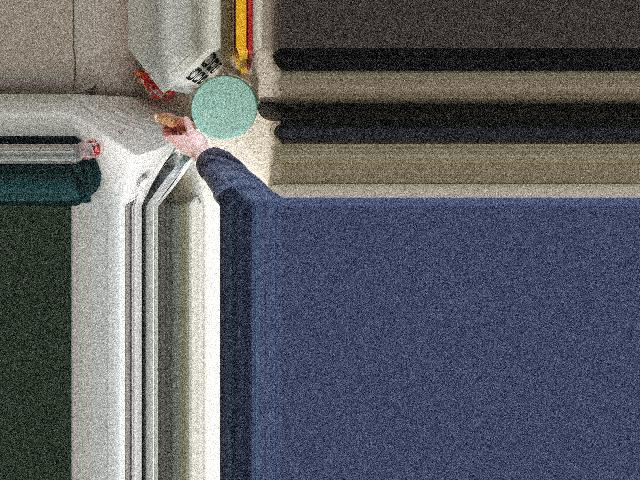sweet_potato: (154, 113, 206, 142)
